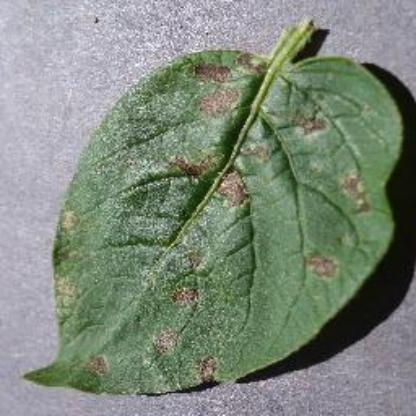Early-Blight: (21, 15, 415, 398)
